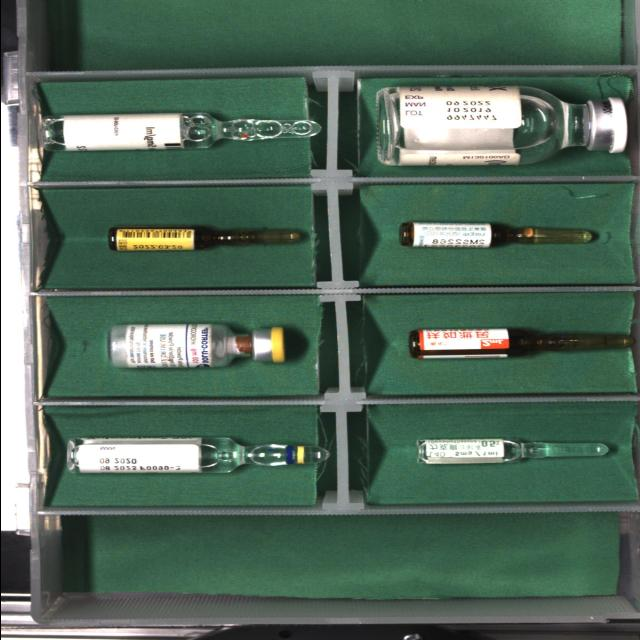Vials: (375, 86, 626, 166), (108, 324, 284, 368)
